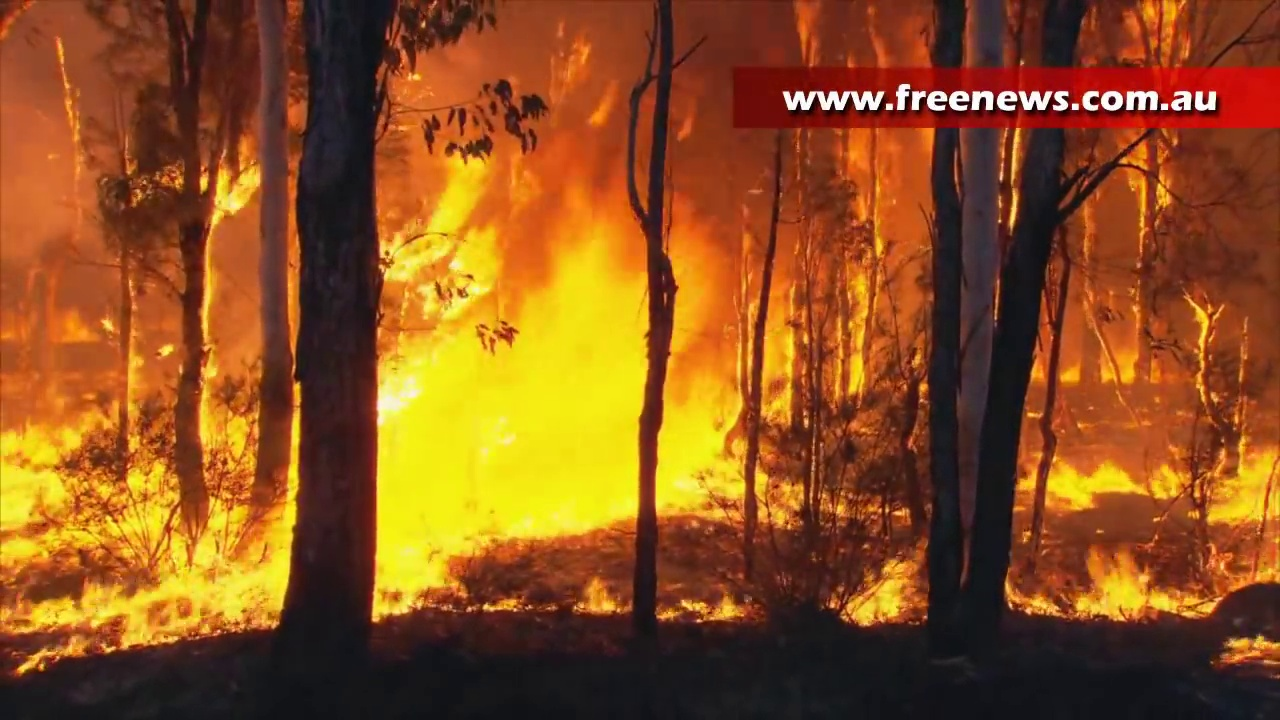fire: (384, 158, 638, 516), (9, 414, 273, 641), (1083, 548, 1205, 616), (1222, 444, 1277, 580), (1034, 459, 1137, 495), (16, 589, 119, 624), (847, 570, 911, 623), (220, 168, 257, 204), (585, 581, 610, 613), (568, 42, 594, 65), (718, 599, 737, 621)
